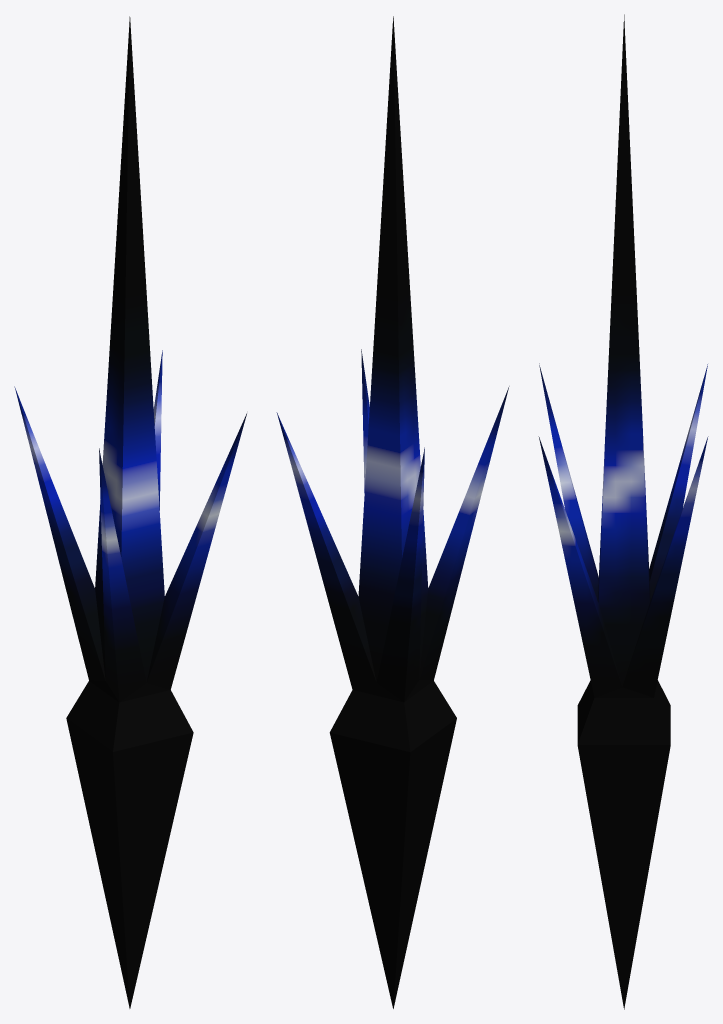
Rendered from tx_longpugong_fire.obj.
3 renders of one model, left to right at view 1: azimuth 30°, elevation 25°; view 2: azimuth 150°, elevation 25°; view 3: azimuth 270°, elevation 25°, orthographic.
Parts seen in each view (by area): view 1: jian02; view 2: jian02; view 3: jian02.
Boxes of the visible parts, x1,y1,x2,y2 form: jian02: (14, 16, 246, 1008); jian02: (276, 16, 509, 1008); jian02: (538, 14, 708, 1009).
Size of the model in its own units: 24.24 by 155 by 24.06.
1 material, 1 textured.
